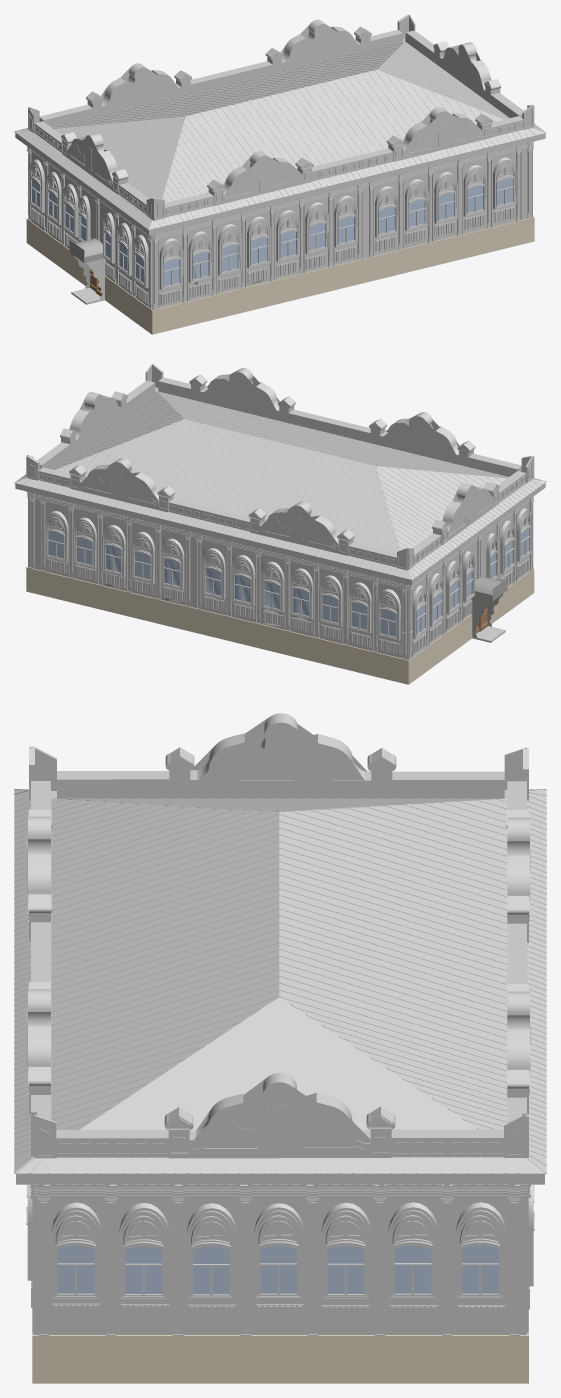
The model's file is music.fbx.
3 views of the same model, one above another, from view 1: azimuth 30°, elevation 25°; view 2: azimuth 150°, elevation 25°; view 3: azimuth 270°, elevation 25° (orthographic). The views are drawn at different scales.
Parts seen in each view (by area): view 1: МузКлассы; view 2: МузКлассы; view 3: МузКлассы.
Boxes of the visible parts, x1,y1,x2,y2 form: МузКлассы: [14, 14, 546, 334]; МузКлассы: [14, 363, 546, 684]; МузКлассы: [14, 713, 546, 1383].
Bounding box in the file's own units: 1996 × 712 × 1134.
